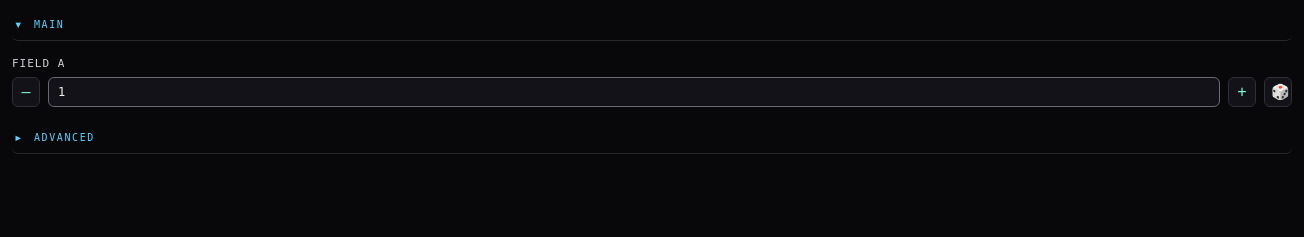
Test case: SchemaForm › starts a section collapsed when any field in it declares collapsed
Expected: the text "Field A" is shown, [12,57,65,70]
Expected: the text "Seed" is not shown
// one click reveals it
Click the button "▸ Advanced". click: (64, 137)
box: [12,125,1292,154]
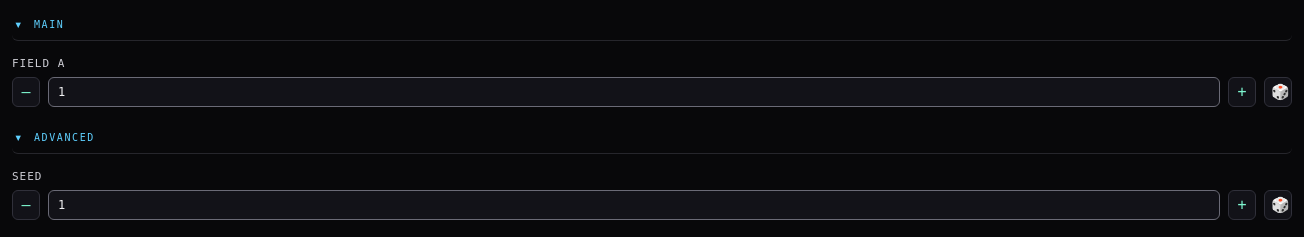
Now the text "Seed" is shown, box [12,170,42,183]
